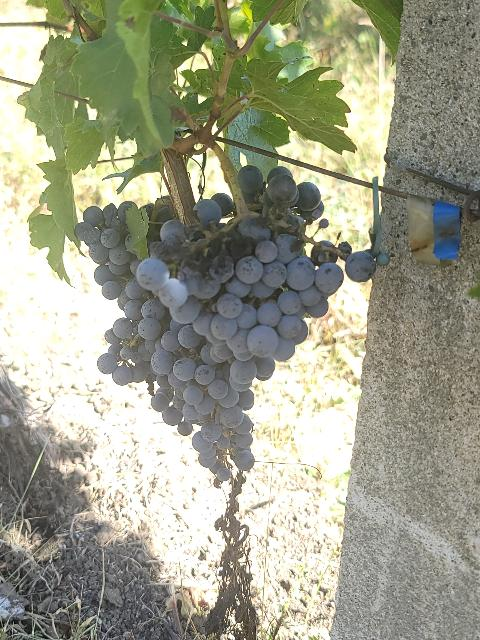grapes: (106, 166, 376, 481), (74, 201, 159, 301)
